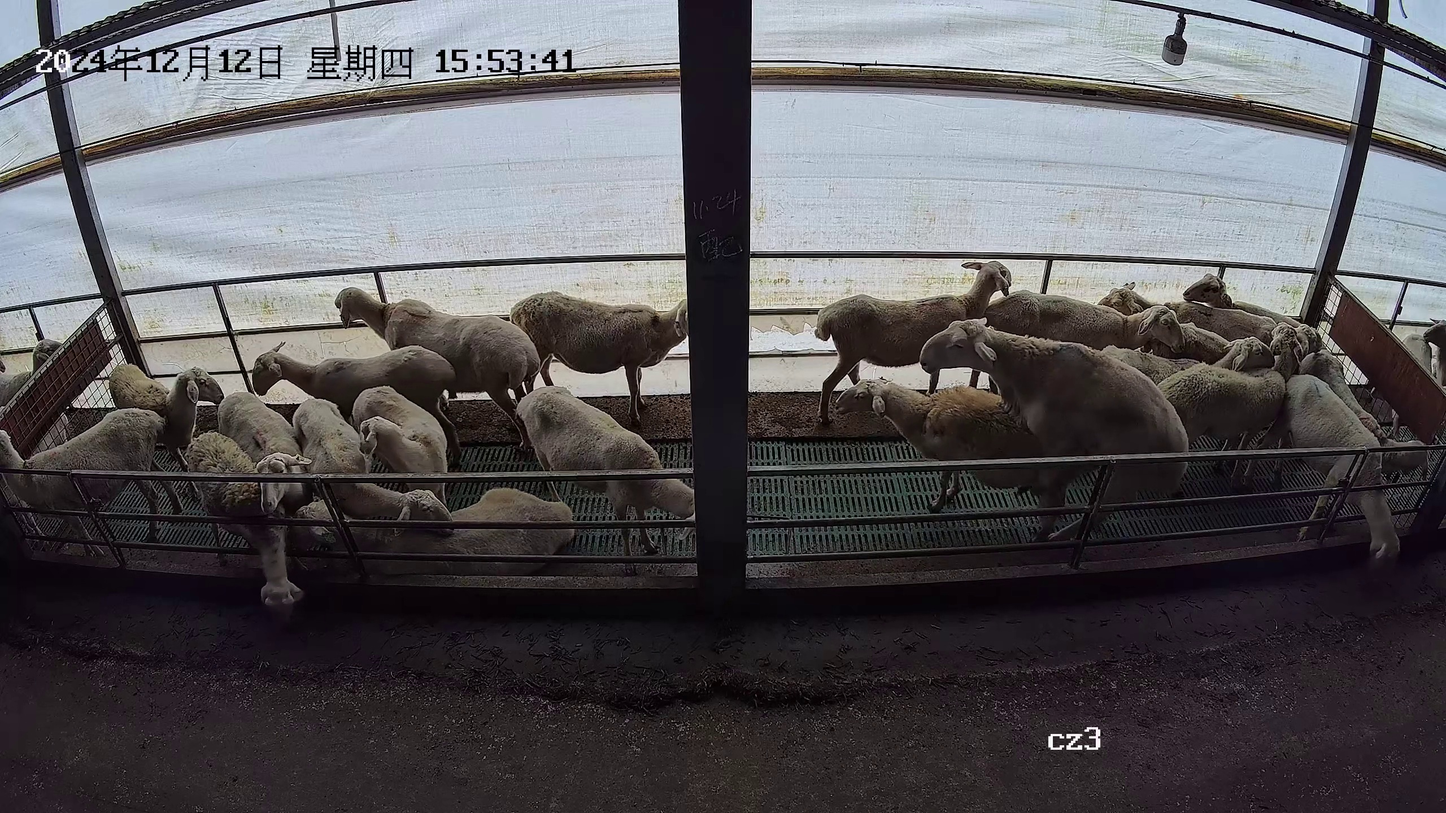Smounting: (826, 314, 1189, 548)
mounted: (831, 374, 1109, 544)
